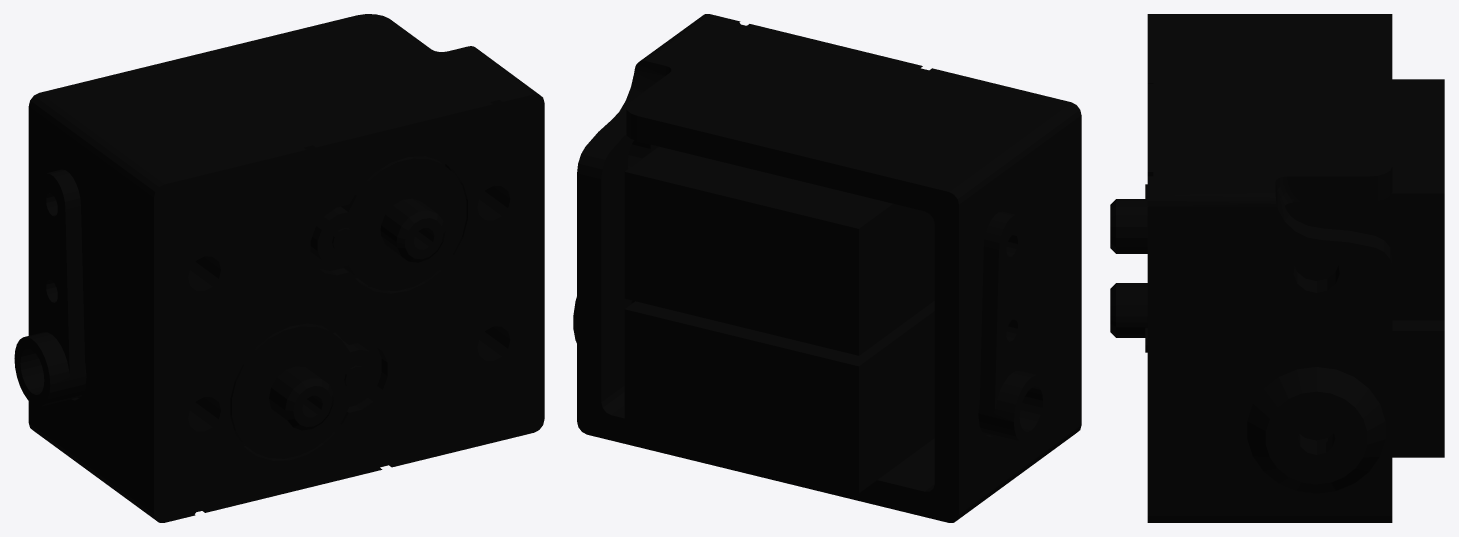
The picture shows the model from 3 angles, left to right: view 1: azimuth 30°, elevation 25°; view 2: azimuth 150°, elevation 25°; view 3: azimuth 270°, elevation 25°; orthographic projection. The views are drawn at different scales.
Parts seen in each view (by area): view 1: rf1; view 2: rf1; view 3: rf1.
Part boxes in pixels (x1,y1,x2,y2): rf1: (14, 14, 544, 522); rf1: (573, 14, 1081, 522); rf1: (1110, 14, 1444, 522).
Bounding box in the file's own units: 0.0428 × 0.0287 × 0.0313.
Materials: 1 (1 with a texture image).
